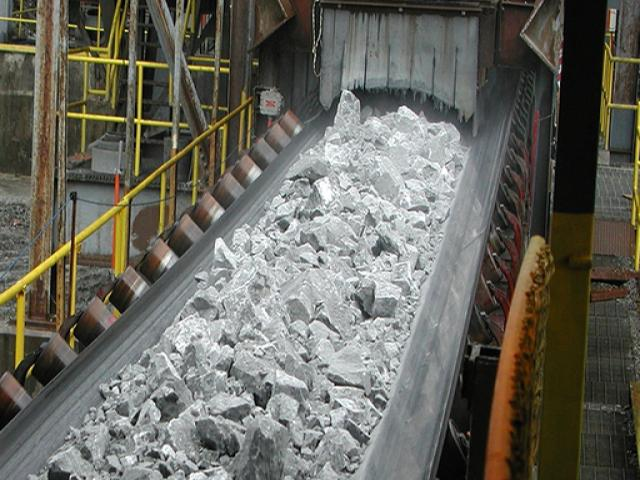conveyor: (21, 81, 494, 480)
